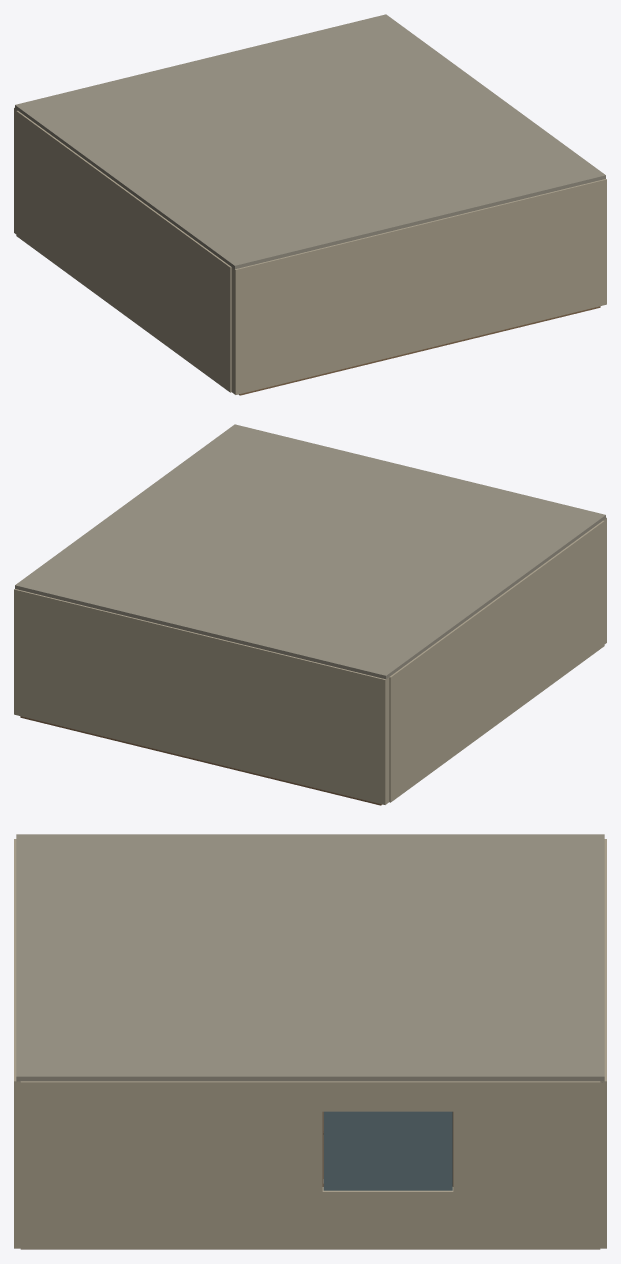
File: kahvehane_unified.glb
3 renders of one model, top to bottom at view 1: azimuth 30°, elevation 25°; view 2: azimuth 150°, elevation 25°; view 3: azimuth 270°, elevation 25°, orthographic. The views are drawn at different scales.
Parts seen in each view (by area): view 1: Quiet ceiling.007, Entry lime wall.007, Left lime wall.007; view 2: Quiet ceiling.007, Back lime wall.007, Left lime wall.007; view 3: Quiet ceiling.007, Right lime wall.015, Right lime wall.014, WindowOutside.007, Window below.007, Window above.007, Back lime wall.007, Entry lime wall.007.
Boxes of the visible parts, bbox=[...] form: Quiet ceiling.007: bbox=[15, 14, 605, 269]; Entry lime wall.007: bbox=[231, 179, 606, 394]; Left lime wall.007: bbox=[16, 110, 231, 392]; Quiet ceiling.007: bbox=[15, 424, 605, 679]; Back lime wall.007: bbox=[14, 589, 389, 804]; Left lime wall.007: bbox=[389, 520, 604, 802]; Quiet ceiling.007: bbox=[16, 834, 604, 1082]; Right lime wall.015: bbox=[20, 1081, 322, 1249]; Right lime wall.014: bbox=[453, 1081, 600, 1249]; WindowOutside.007: bbox=[323, 1111, 452, 1190]; Window below.007: bbox=[322, 1187, 453, 1249]; Window above.007: bbox=[322, 1081, 453, 1111]; Back lime wall.007: bbox=[600, 839, 606, 1248]; Entry lime wall.007: bbox=[14, 839, 20, 1248].
Size of the model in its own units: 10.02 by 3.35 by 10.28.
